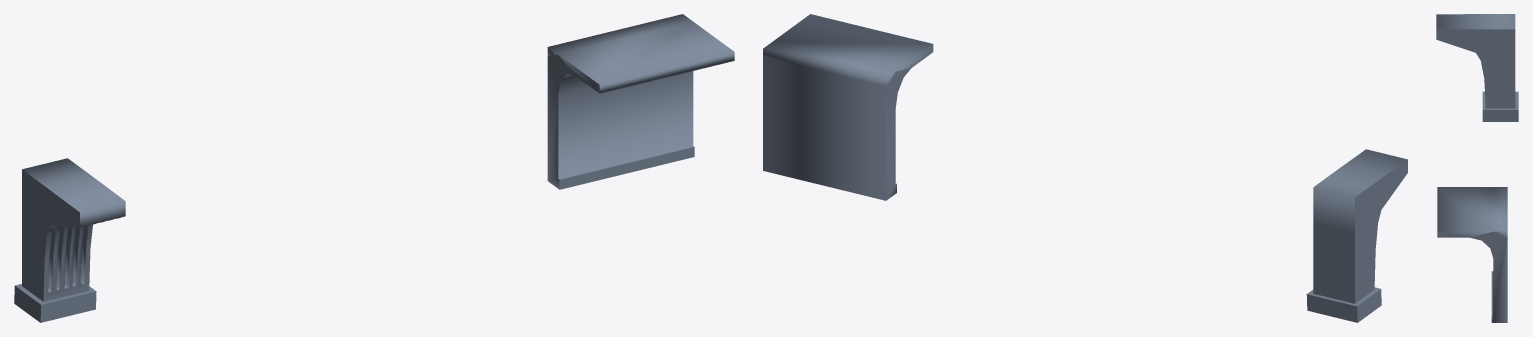
The model's file is WRLD_BLEND_ASSET_ROOF1.fbx.
The picture shows the model from 3 angles, left to right: view 1: azimuth 30°, elevation 25°; view 2: azimuth 150°, elevation 25°; view 3: azimuth 270°, elevation 25°; orthographic projection. The views are drawn at different scales.
Parts seen in each view (by area): view 1: Cube.022, Cube.009; view 2: Cube.022, Cube.009; view 3: Cube.009, Cube.022.
Part boxes in pixels (left/top/right/bottom): Cube.022: left=547, top=14, right=734, bottom=189; Cube.009: left=14, top=158, right=125, bottom=322; Cube.022: left=763, top=14, right=933, bottom=200; Cube.009: left=1306, top=149, right=1407, bottom=322; Cube.009: left=1436, top=14, right=1518, bottom=121; Cube.022: left=1437, top=187, right=1507, bottom=322.
Bounding box in the file's own units: 832 × 162 × 132.
